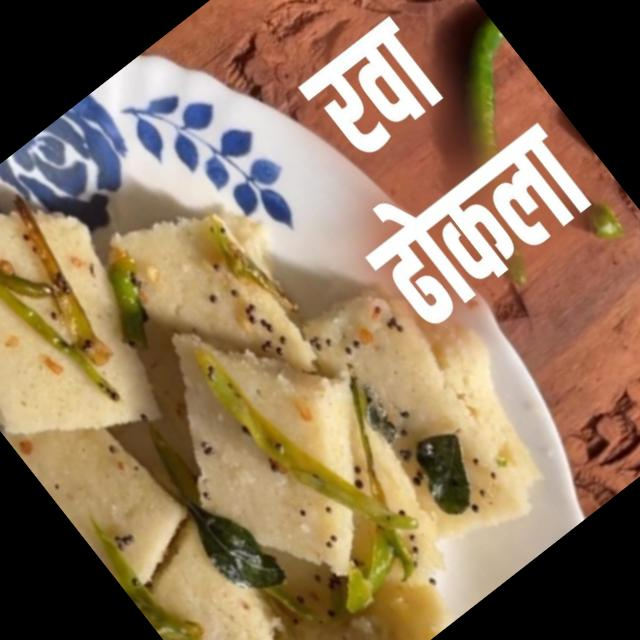dhokla: (0, 3, 600, 640)
